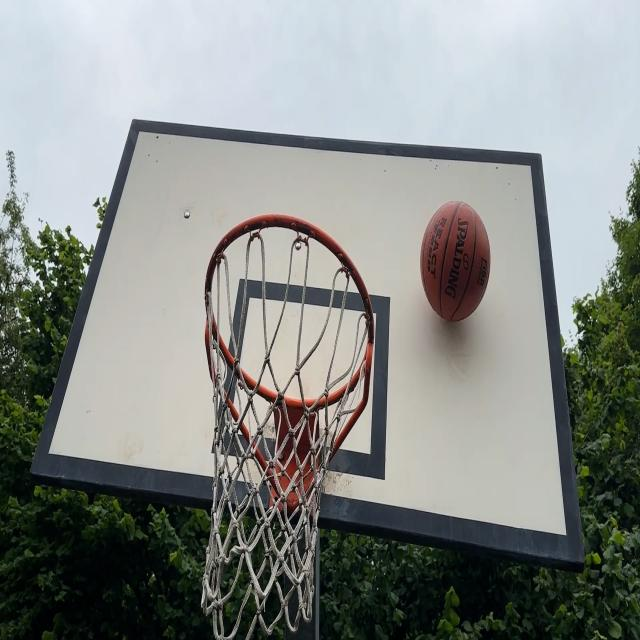rebound_hit: (420, 202, 491, 334)
